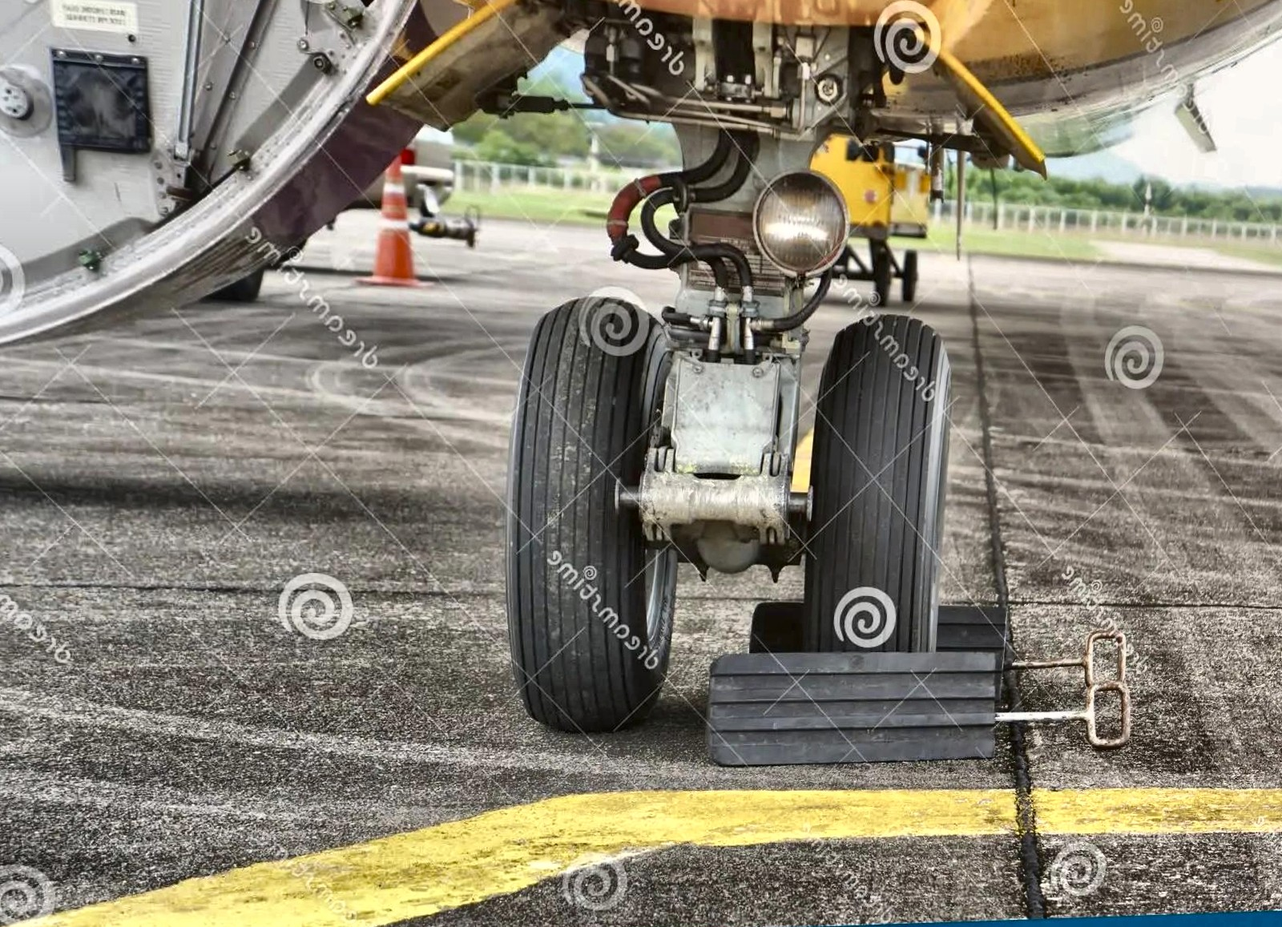chock: (699, 650, 1006, 762), (744, 595, 1020, 657)
wheel: (508, 294, 694, 725), (795, 306, 961, 651)
